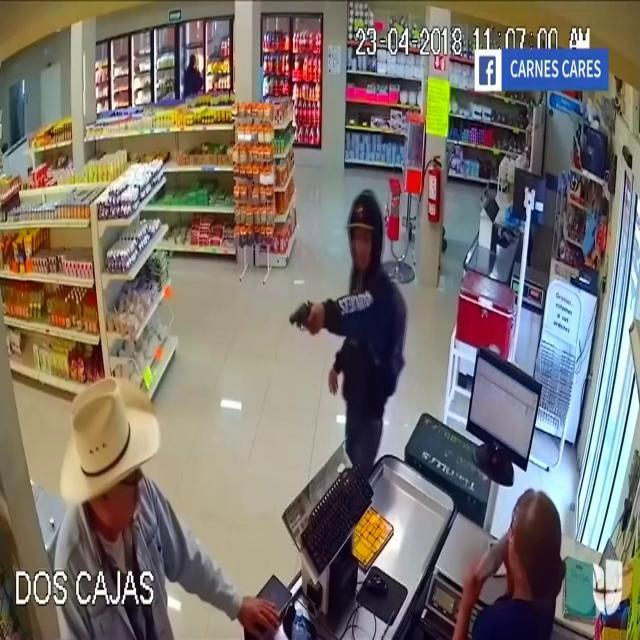weapon: (280, 282, 322, 351)
